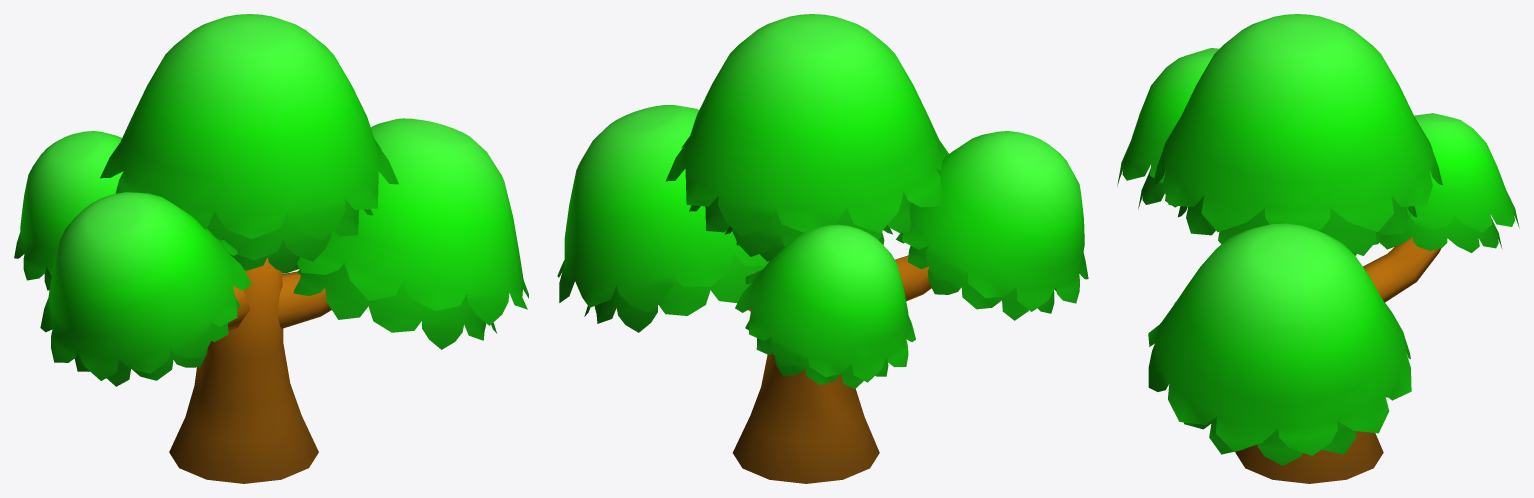
The model's file is Plant_Oak_01.fbx.
The picture shows the model from 3 angles, left to right: view 1: azimuth 30°, elevation 25°; view 2: azimuth 150°, elevation 25°; view 3: azimuth 270°, elevation 25°; orthographic projection.
Visible parts, largest first — view 1: Plant_Oak_01; view 2: Plant_Oak_01; view 3: Plant_Oak_01.
Part boxes in pixels (left/top/right/bottom): Plant_Oak_01: left=14, top=14, right=528, bottom=483; Plant_Oak_01: left=557, top=14, right=1088, bottom=483; Plant_Oak_01: left=1117, top=14, right=1519, bottom=483.
Bounding box in the file's own units: 1097 × 936 × 798.
